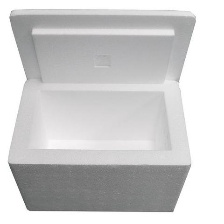foam_box: (4, 4, 198, 217)
